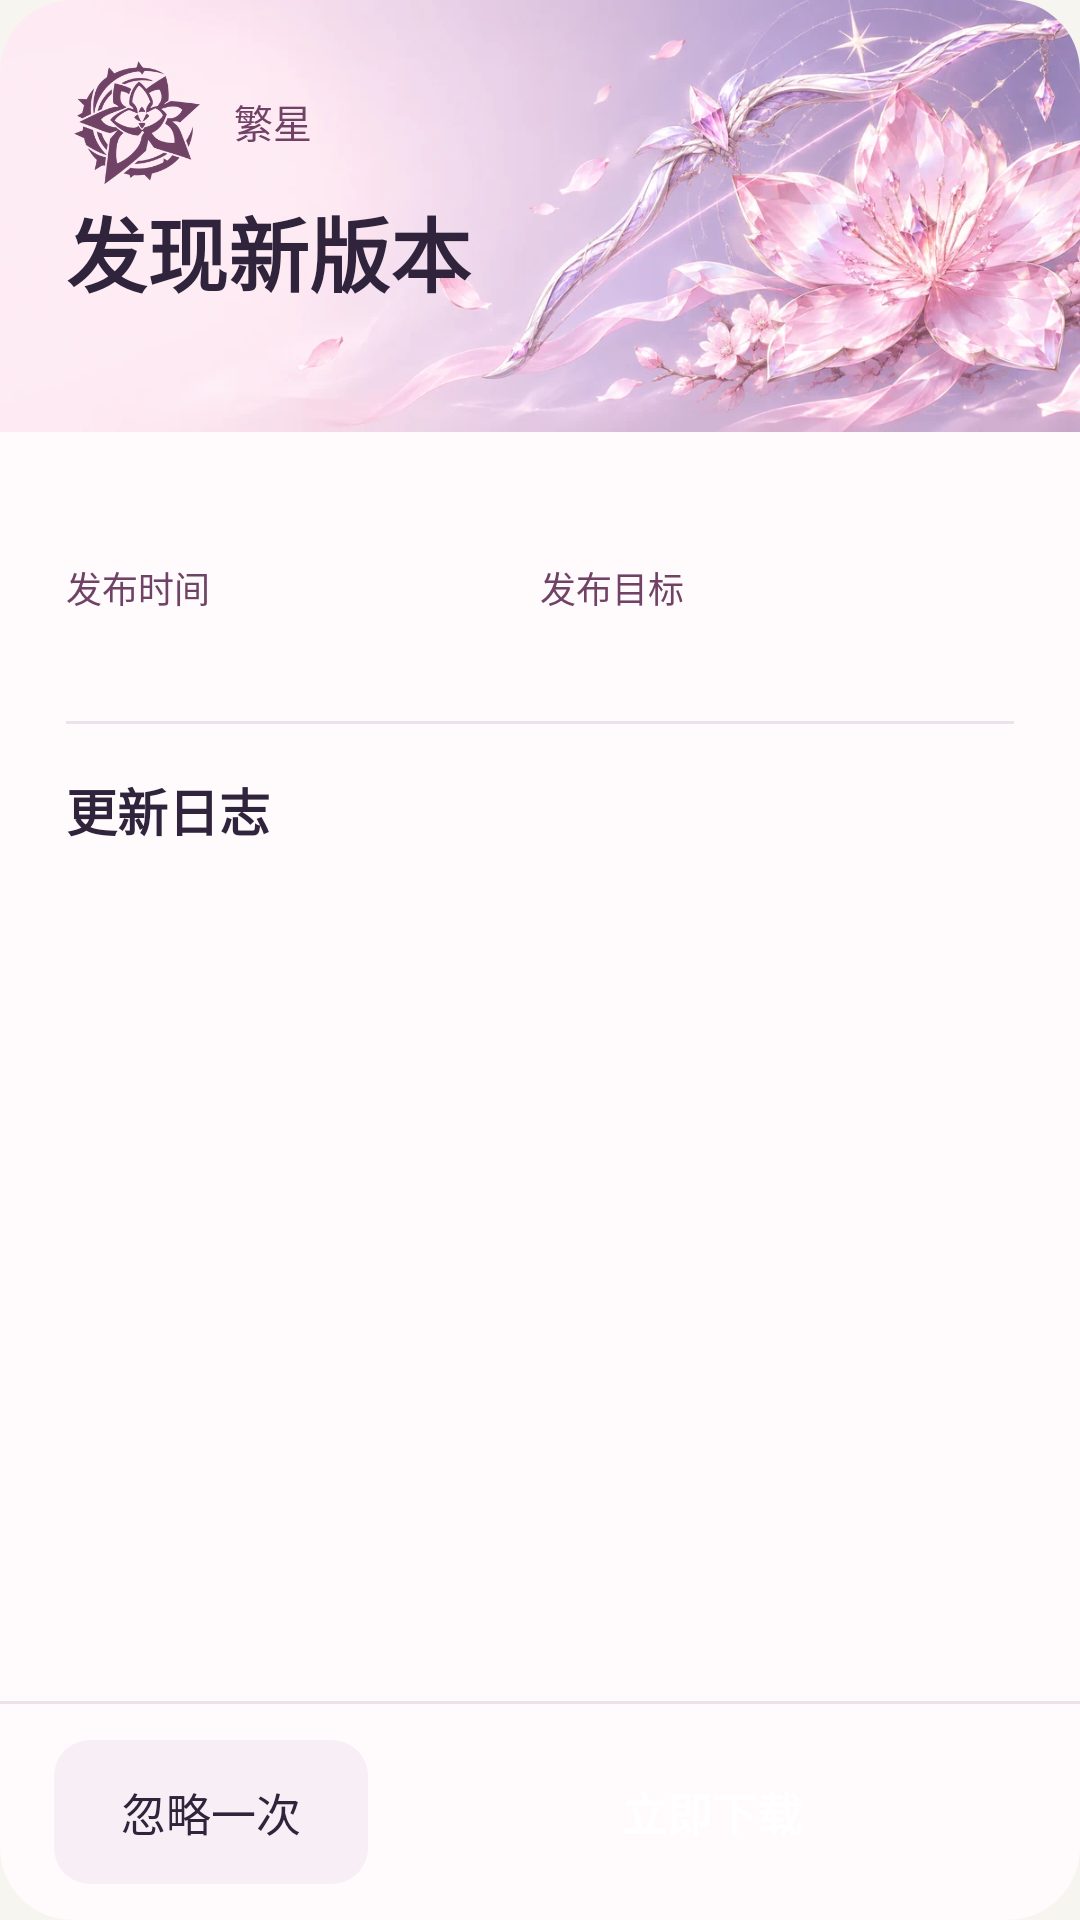

Point at icon controls on the screen. Image size 1080 x 1920, points as point (x, y).
update stars signet: point (137, 122)
